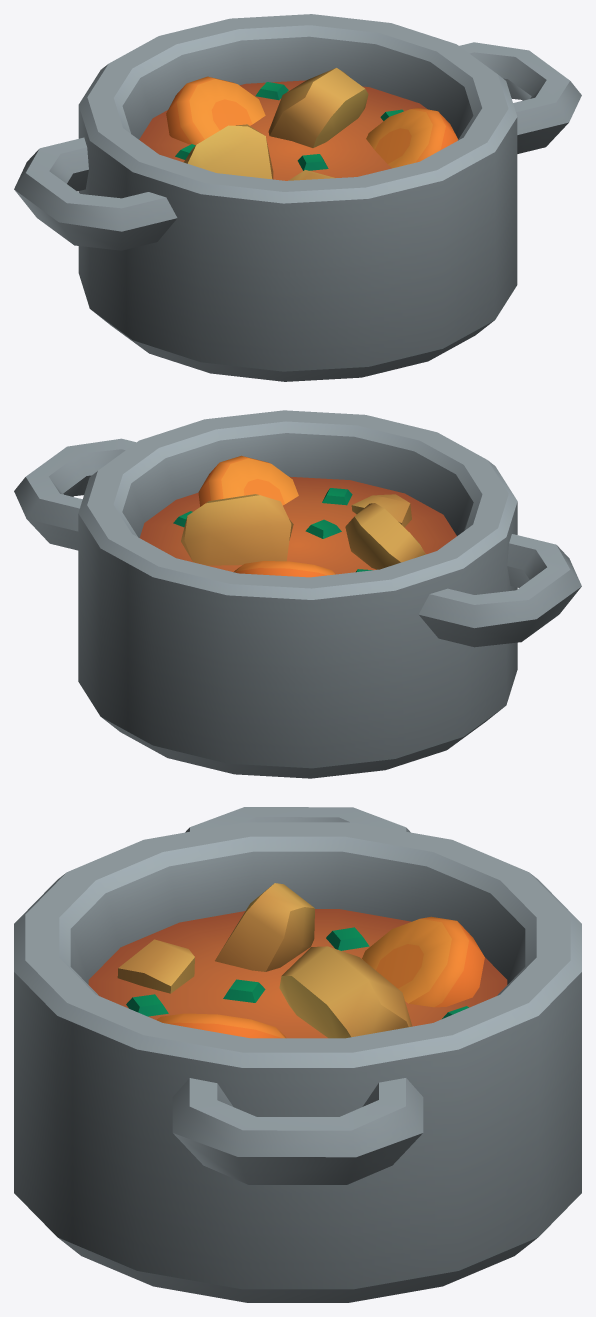
File: kay-pot_a_stew.glb
3 renders of one model, top to bottom at view 1: azimuth 30°, elevation 25°; view 2: azimuth 150°, elevation 25°; view 3: azimuth 270°, elevation 25°, orthographic. The views are drawn at different scales.
Parts seen in each view (by area): view 1: pot_A_stew; view 2: pot_A_stew; view 3: pot_A_stew.
Part boxes in pixels (box(x1,y1,x2,y2)): pot_A_stew: box(14, 14, 581, 381); pot_A_stew: box(14, 410, 581, 778); pot_A_stew: box(14, 807, 581, 1302).
Bounding box in the file's own units: 0.22 × 0.0811 × 0.1571.
Materials: 1 (1 with a texture image).
